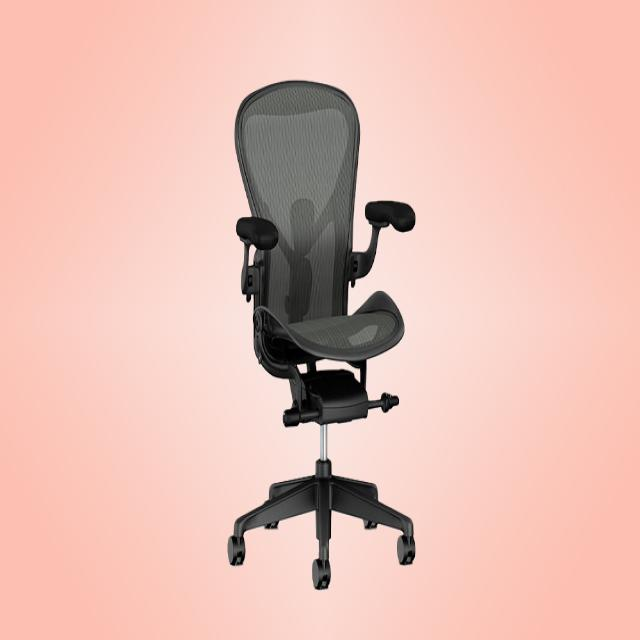chair: (226, 78, 416, 590)
